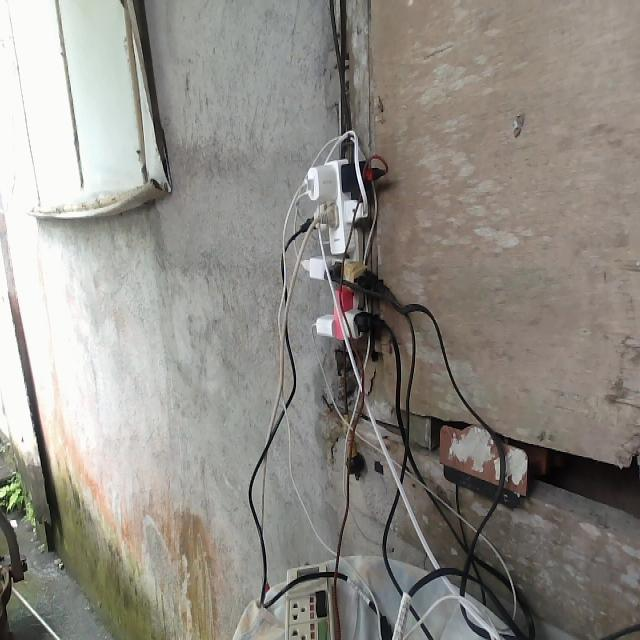-: (297, 154, 394, 338)
